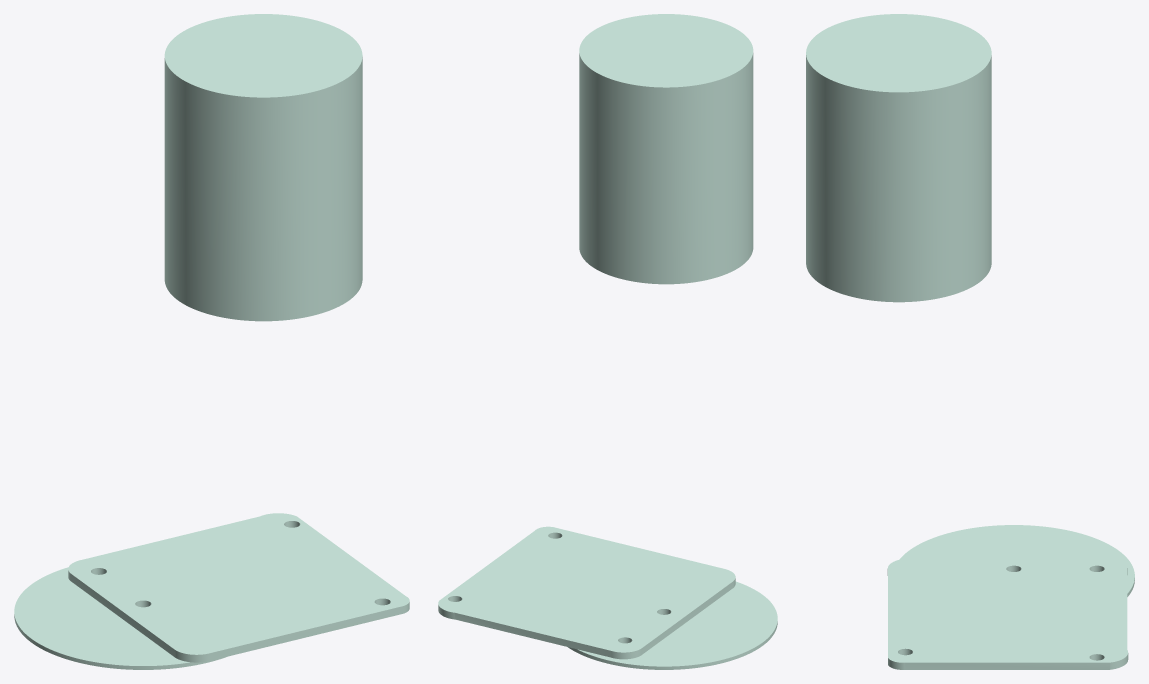
3 views of the same model, side by side, from view 1: azimuth 30°, elevation 25°; view 2: azimuth 150°, elevation 25°; view 3: azimuth 270°, elevation 25° (orthographic). The views are drawn at different scales.
Parts seen in each view (by area): view 1: Renderer Node; view 2: Renderer Node; view 3: Renderer Node.
Part boxes in pixels (<box>): Renderer Node: <box>14,14,409,669</box>; Renderer Node: <box>438,14,777,669</box>; Renderer Node: <box>806,14,1134,669</box>.
Size of the model in its own units: 0.6715 by 1.2 by 0.6436.
